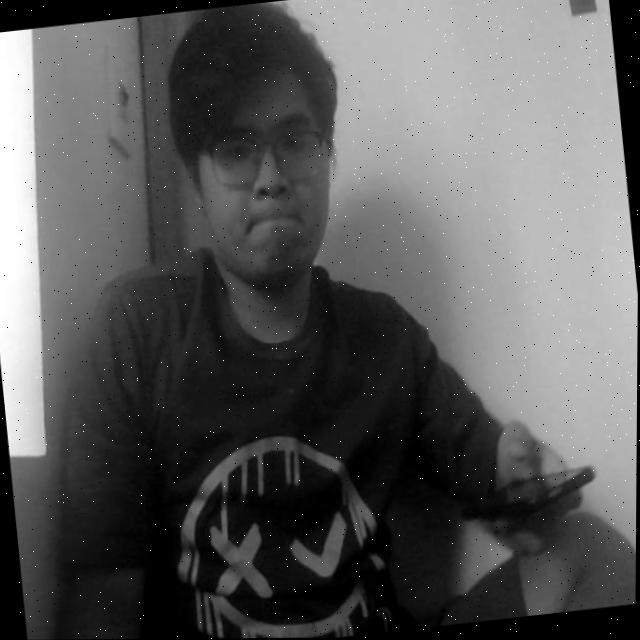phone: (485, 443, 615, 546)
